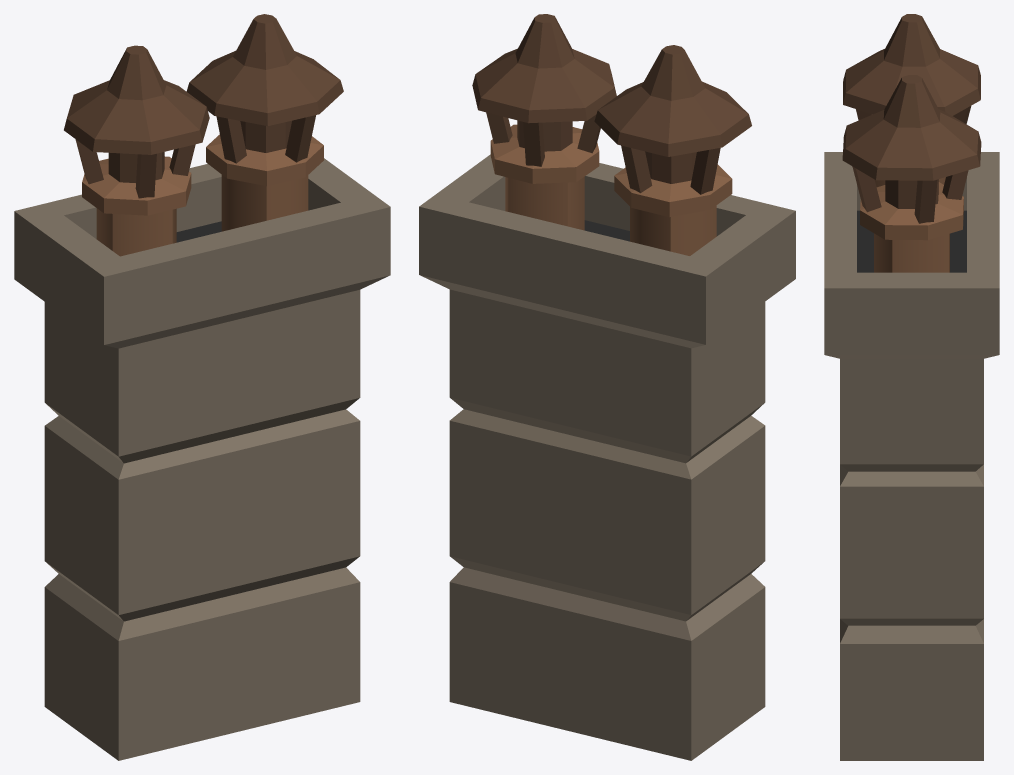
The model's file is SM_Prop_Chimney_02.glb.
The picture shows the model from 3 angles, left to right: view 1: azimuth 30°, elevation 25°; view 2: azimuth 150°, elevation 25°; view 3: azimuth 270°, elevation 25°; orthographic projection. The views are drawn at different scales.
Parts seen in each view (by area): view 1: SM_Prop_Chimney_02; view 2: SM_Prop_Chimney_02; view 3: SM_Prop_Chimney_02.
Boxes of the visible parts, <box> form: SM_Prop_Chimney_02: <box>14,14,390,760</box>; SM_Prop_Chimney_02: <box>419,14,795,760</box>; SM_Prop_Chimney_02: <box>824,14,999,760</box>.
Size of the model in its own units: 0.00961 by 0.0215 by 0.00522.
